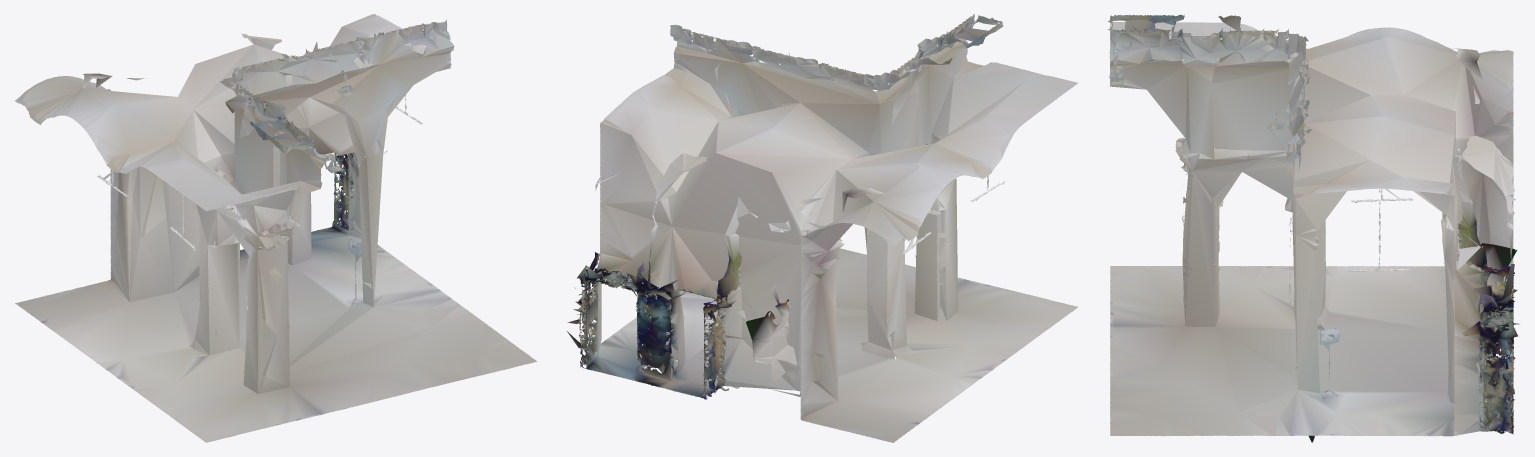
3 views of the same model, side by side, from view 1: azimuth 30°, elevation 25°; view 2: azimuth 150°, elevation 25°; view 3: azimuth 270°, elevation 25° (orthographic). The views are drawn at different scales.
Bounding box in the file's own units: 10.26 × 9.3 × 10.26.
